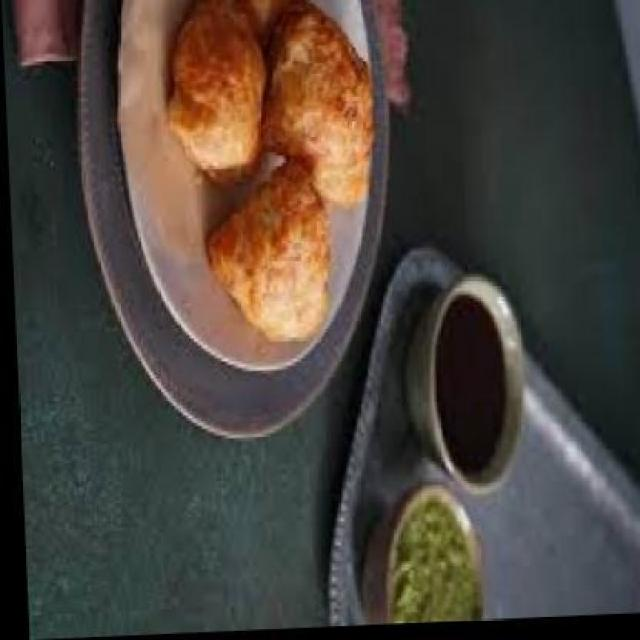samosa: (255, 3, 374, 219), (198, 164, 329, 344), (160, 0, 264, 195)
